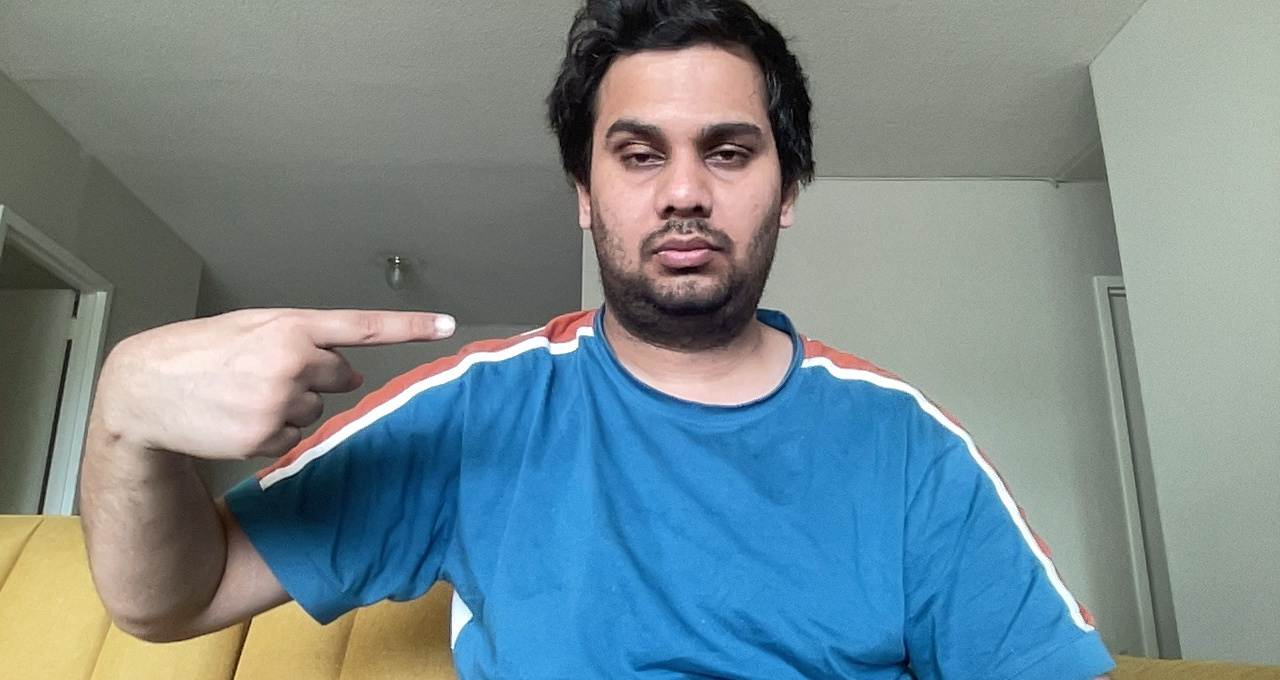fingerleft: (81, 297, 465, 469)
